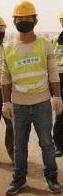boots: (5, 178, 26, 195), (0, 111, 6, 117)
gloves: (1, 102, 13, 120), (0, 97, 5, 109)
hard-hat: (11, 1, 36, 16)
vest: (0, 54, 21, 105)
